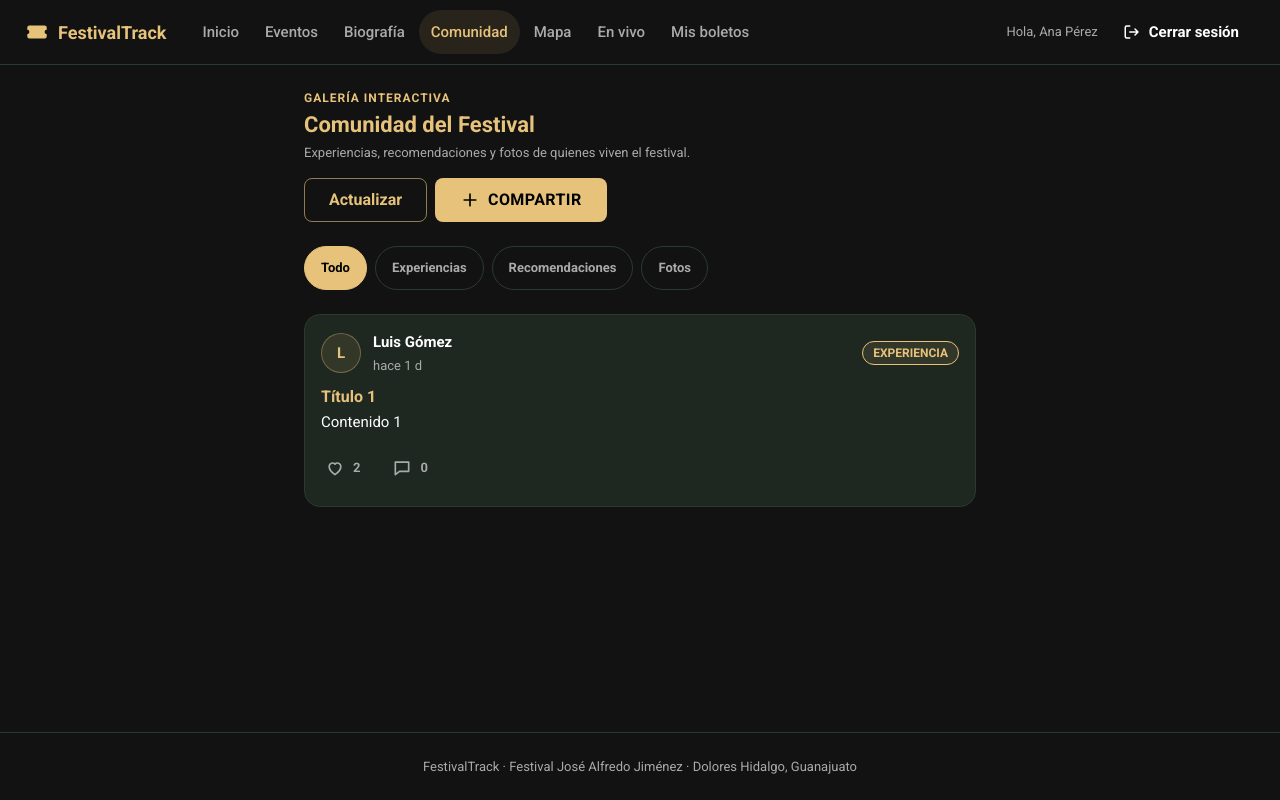
it: comunidad: con sesión › me gusta optimista que se reconcilia con el servidor y se revierte si falla
Step 1. Click the button named "Me gusta, 2" → (343, 468), box [313, 446, 372, 490]
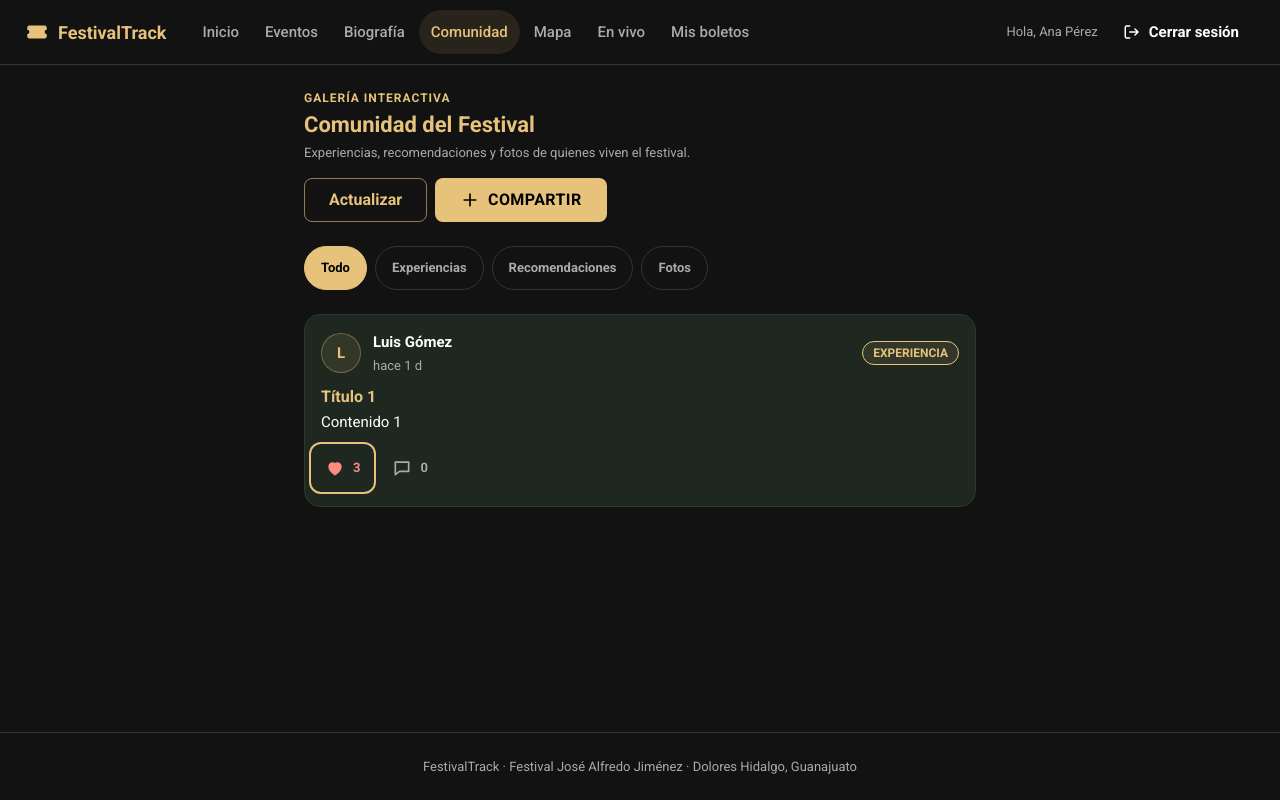
Now the button named "Me gusta, 2" is pressed
Mientras está pendiente no se manda otro.
Step 2. Click the button named "Me gusta, 2" → (343, 468), box [313, 446, 372, 490]
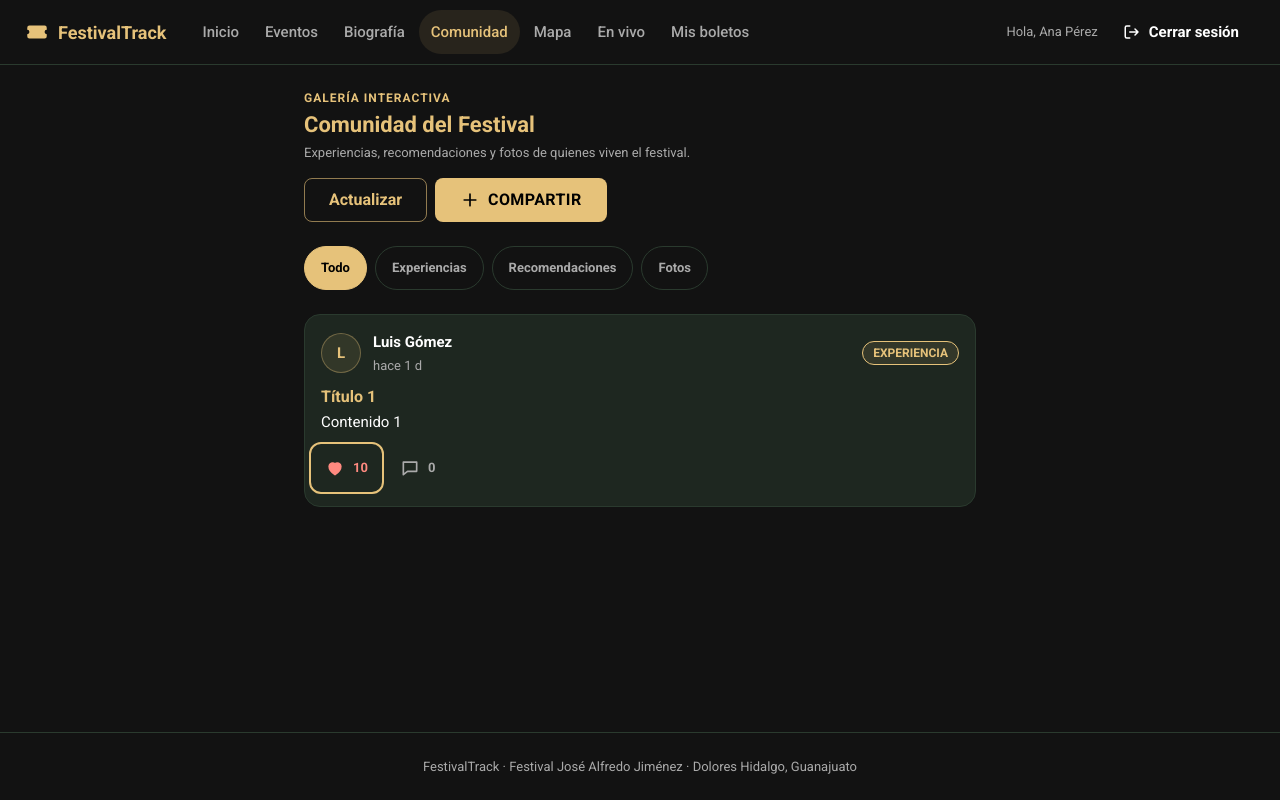
Step 3. Click the button named "Me gusta, 2" → (346, 468), box [313, 446, 380, 490]
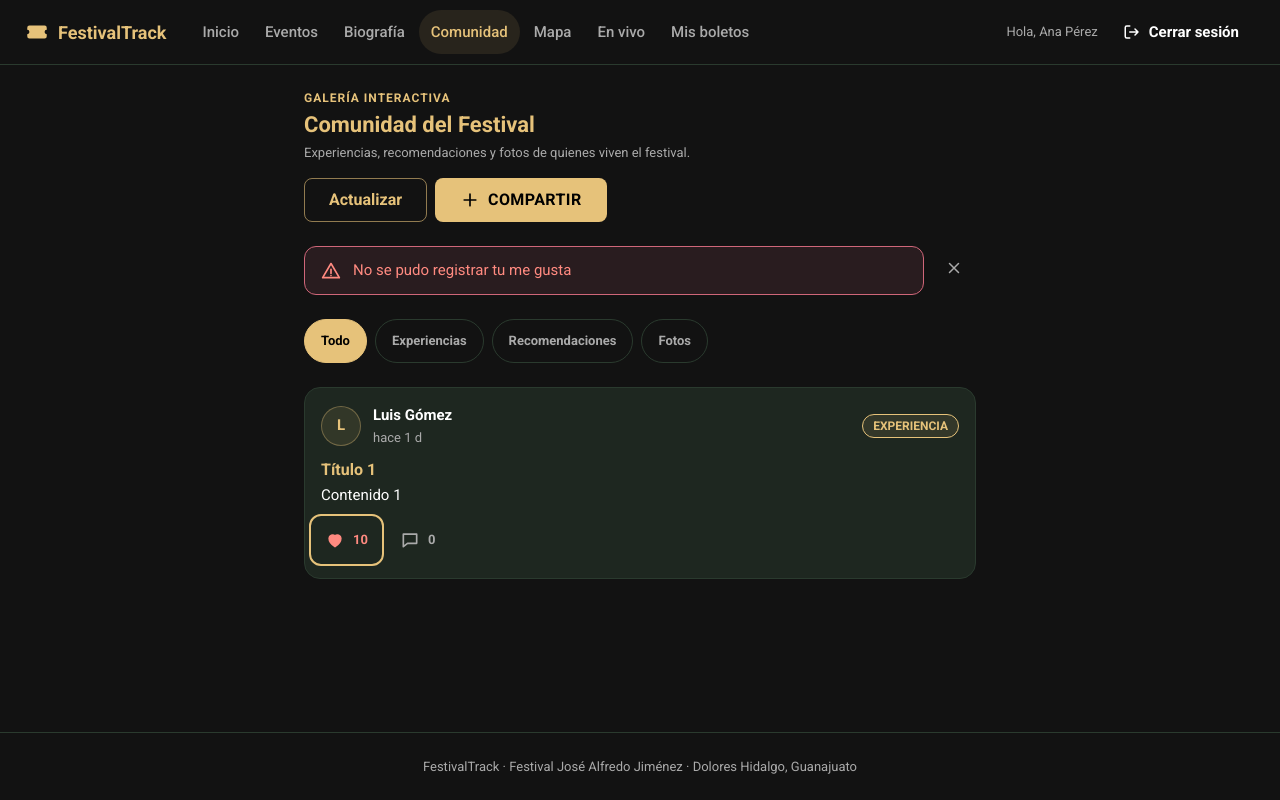
Now the text "No se pudo registrar tu me gusta" is shown, box [353, 259, 571, 282]
